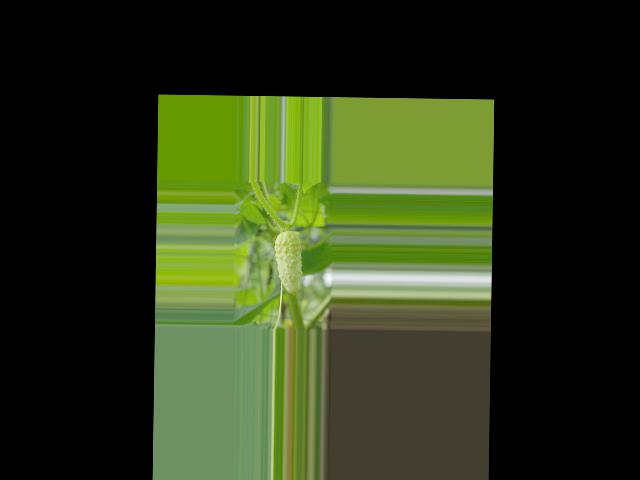cucumber: (273, 230, 302, 295)
